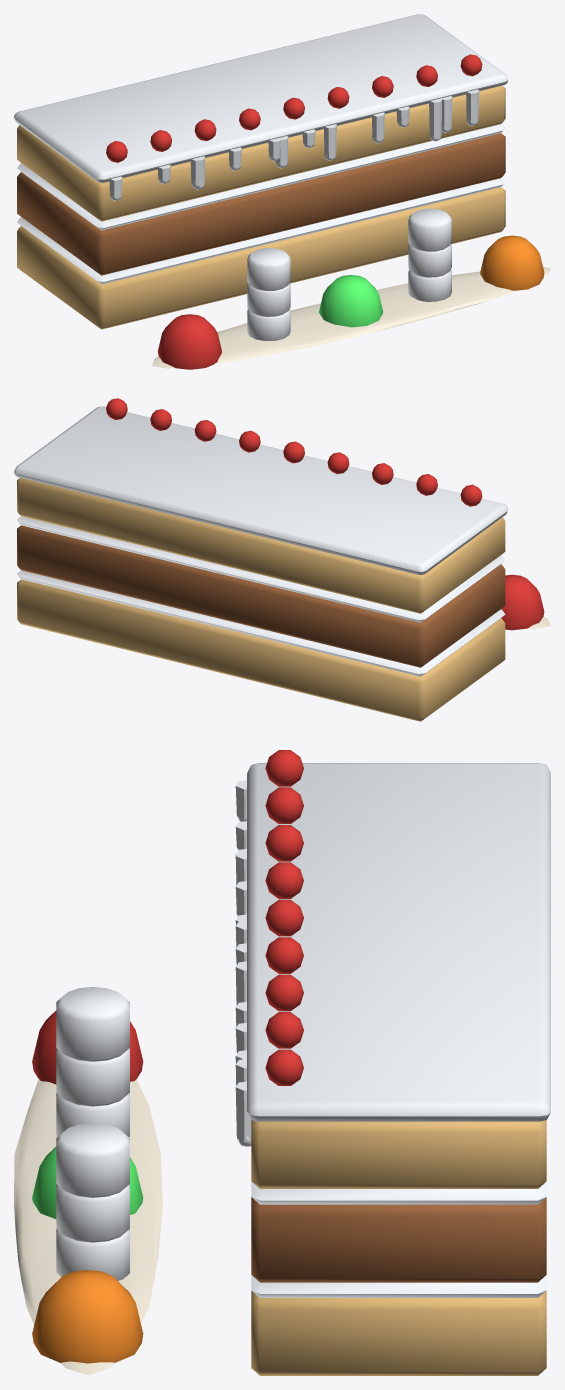
File: CandyWallA.fbx
The picture shows the model from 3 angles, top to bottom: view 1: azimuth 30°, elevation 25°; view 2: azimuth 150°, elevation 25°; view 3: azimuth 270°, elevation 25°; orthographic projection. The views are drawn at different scales.
Visible parts, largest first — view 1: CandyWallA; view 2: CandyWallA; view 3: CandyWallA.
Part boxes in pixels (x1,y1,x2,y2): CandyWallA: (14, 14, 550, 369); CandyWallA: (14, 398, 550, 721); CandyWallA: (14, 750, 550, 1375).
Bounding box in the file's own units: 7.66 × 3.15 × 5.
2 materials, 2 textured.
